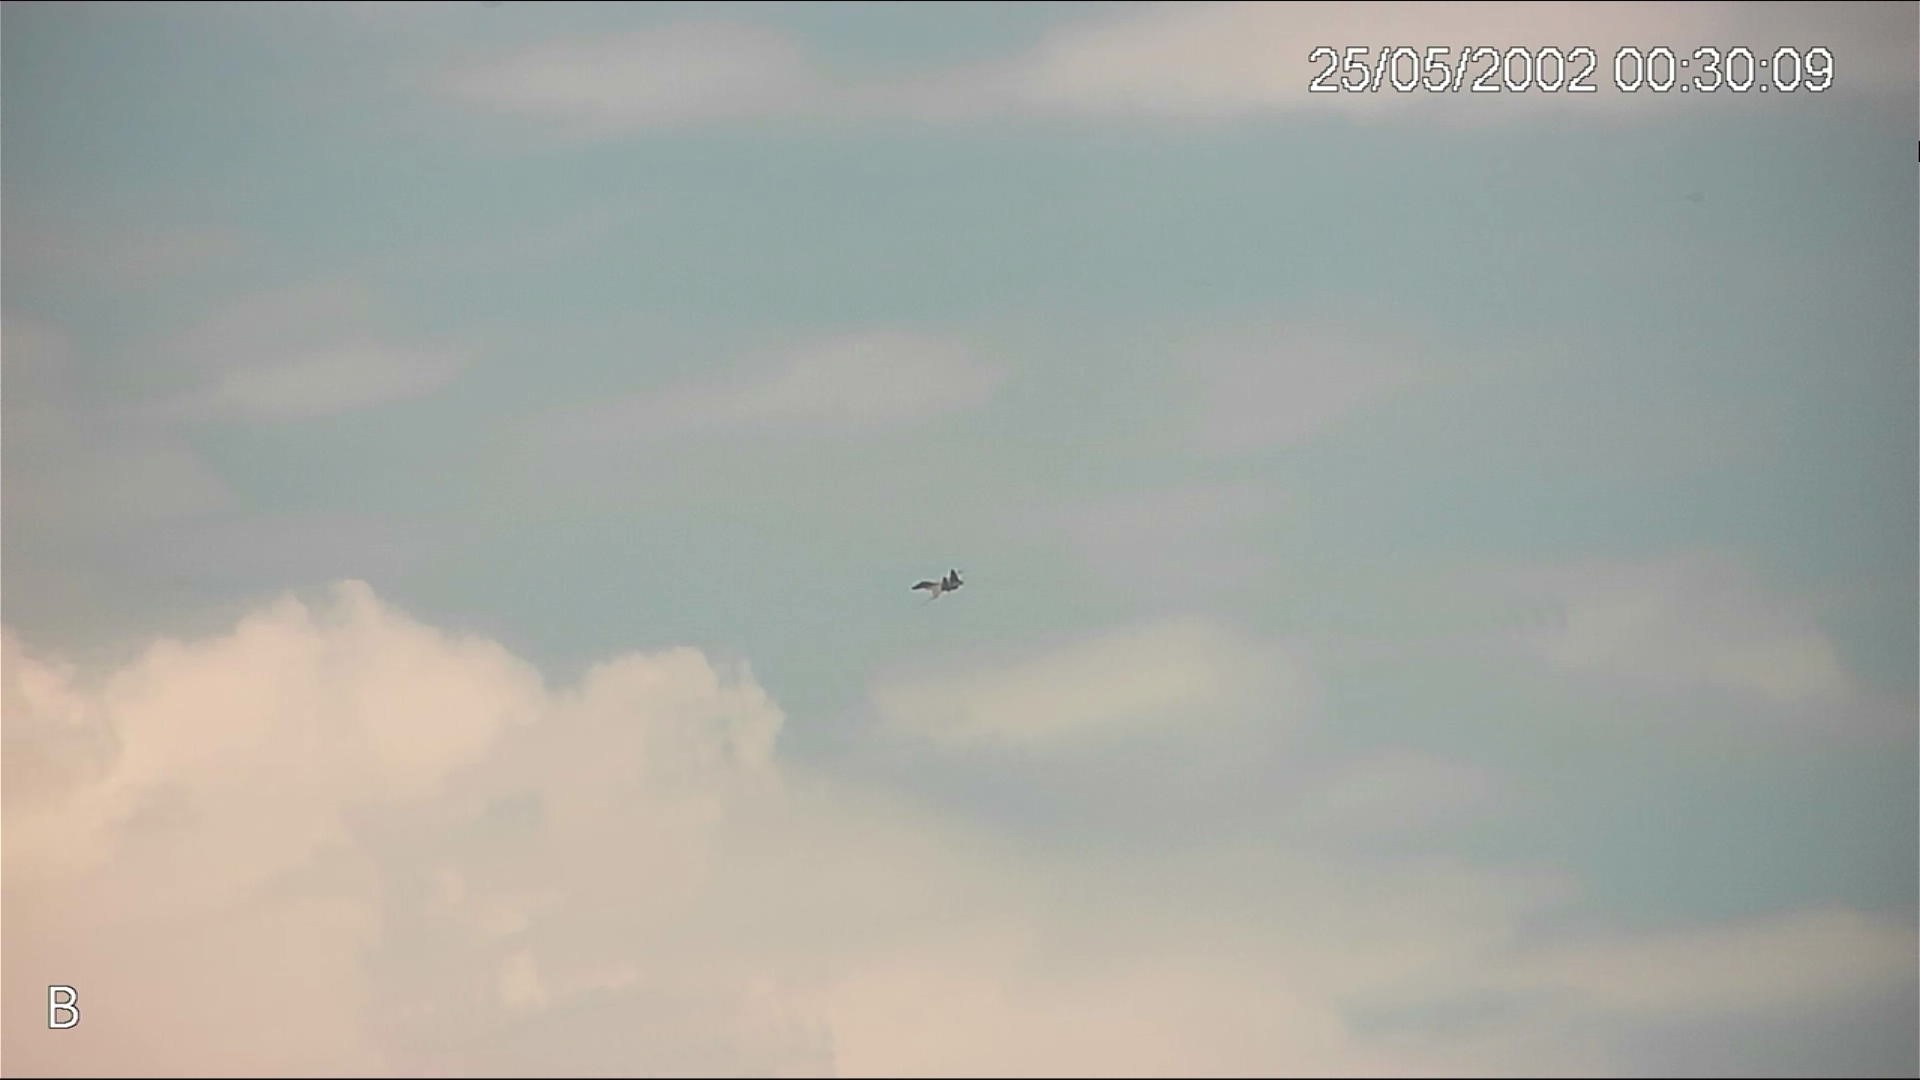SU_30: (909, 568, 965, 597)
